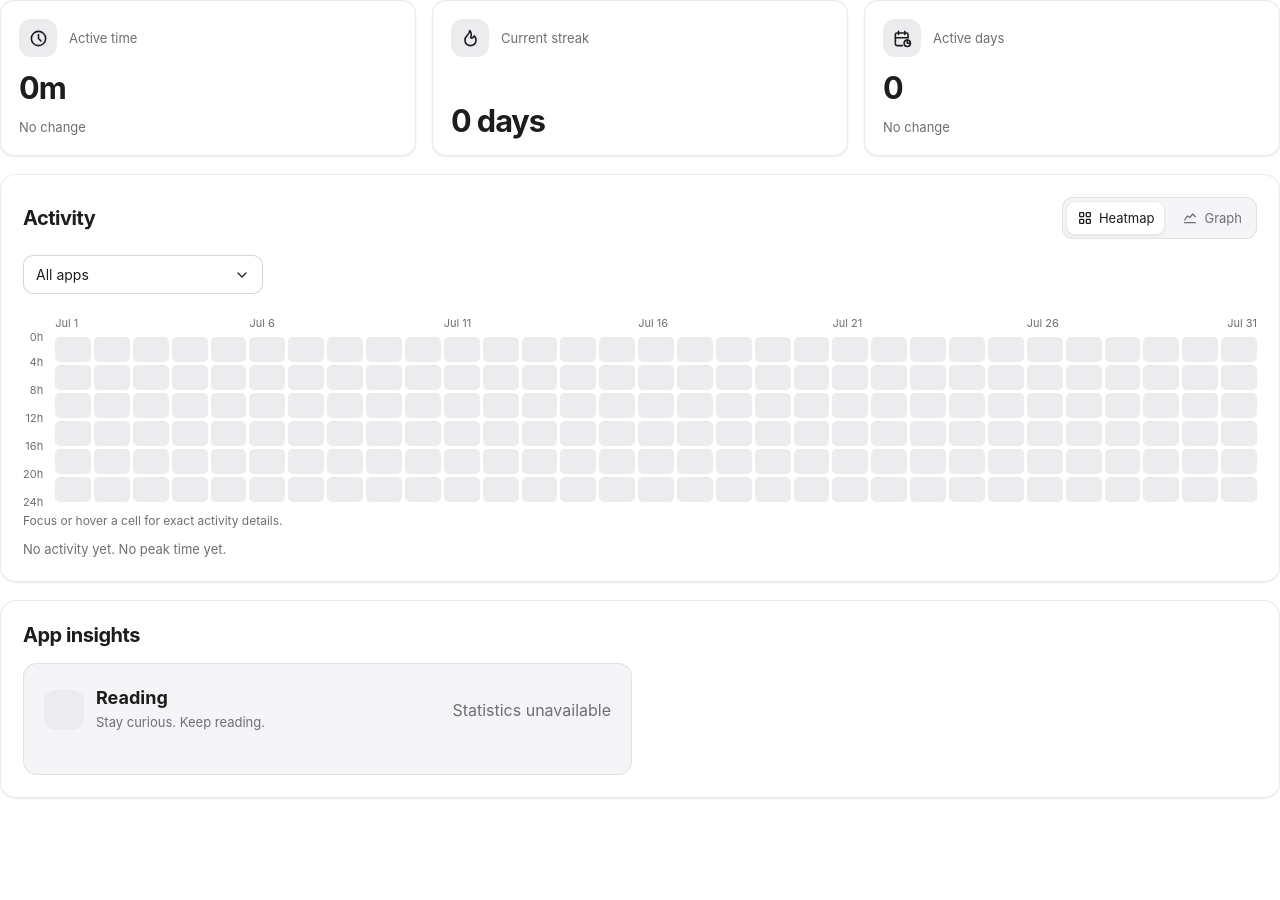
Test: keeps every registered app available in the activity filter when its summary fails
The width and height of the screenshot is (1280, 900).
Expected: the text "Statistics unavailable" is shown, [452,700,611,720]
Click the dropdown named "Statistics app".
click(143, 274)  # box [23,255,263,294]
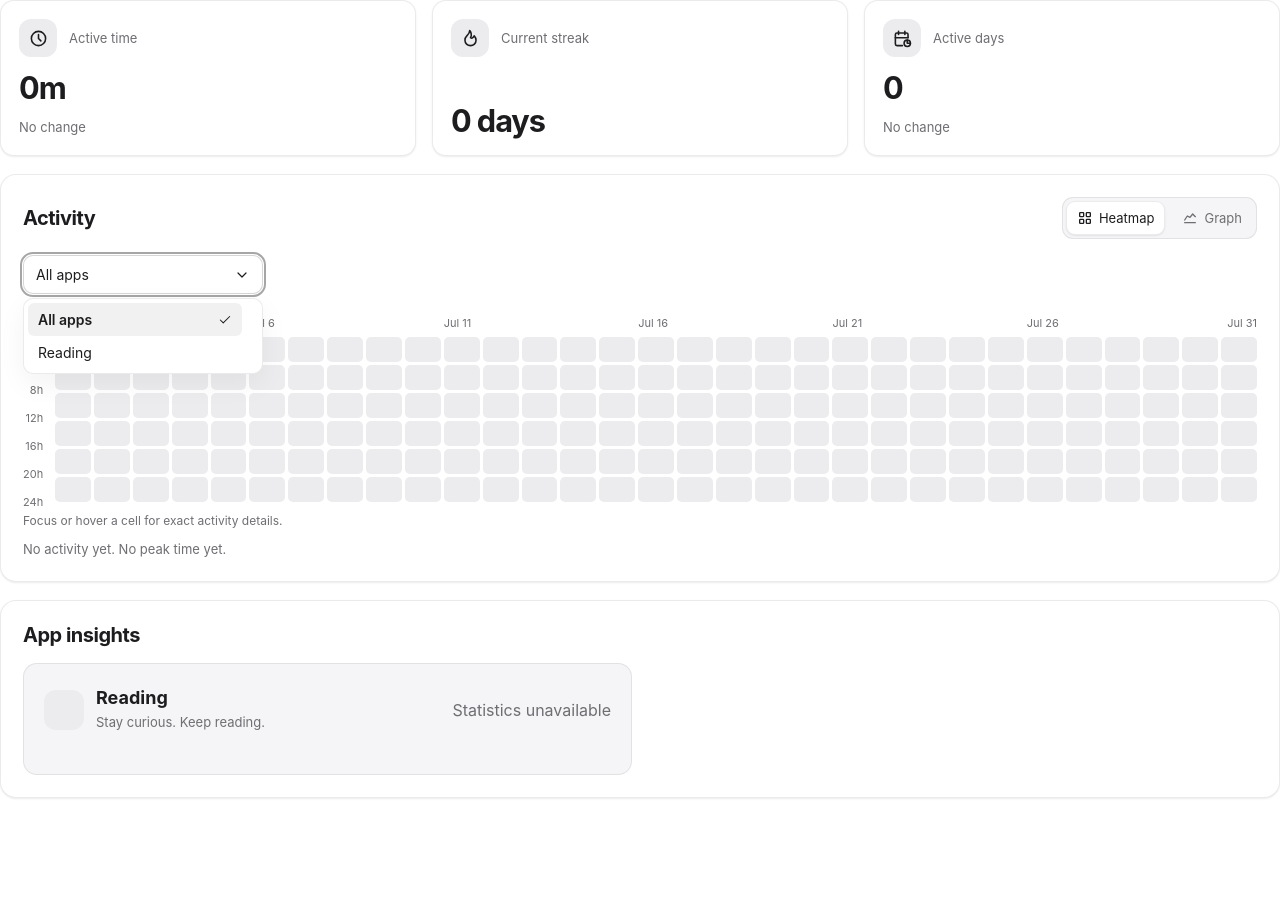
Expected: the option "Reading" is shown, [28,336,242,369]
